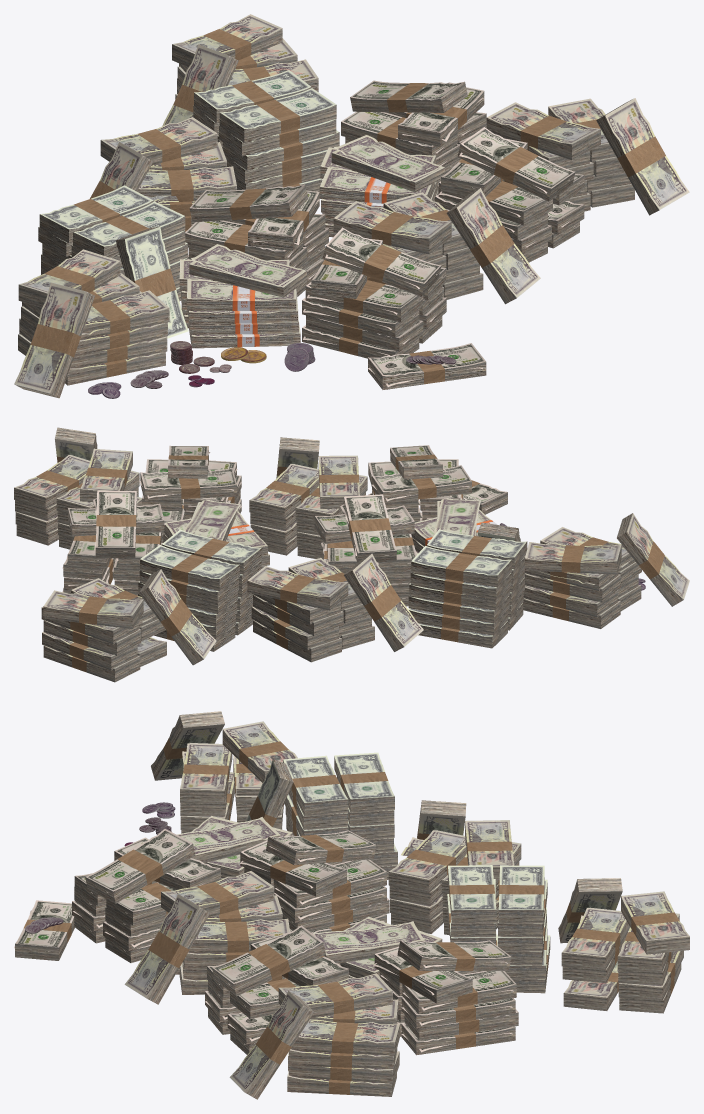
File: base_clip.glb
3 views of the same model, one above another, from view 1: azimuth 30°, elevation 25°; view 2: azimuth 150°, elevation 25°; view 3: azimuth 270°, elevation 25° (orthographic). The views are drawn at different scales.
Parts seen in each view (by area): view 1: Material2 (×4), Material3 (×5); view 2: Material2 (×3), Material3 (×3); view 3: Material2 (×4), Material3 (×3).
Boxes of the visible parts, box(x1,y1,x2,y2) form: Material2 (×4): box(14, 14, 689, 398); Material3 (×5): box(30, 29, 665, 398); Material2 (×3): box(14, 427, 689, 682); Material3 (×3): box(36, 445, 664, 672); Material2 (×4): box(15, 711, 689, 1099); Material3 (×3): box(14, 738, 679, 1094).
Bounding box in the file's own units: 45.6 × 6.18 × 39.38.
13 materials, 9 textured.
